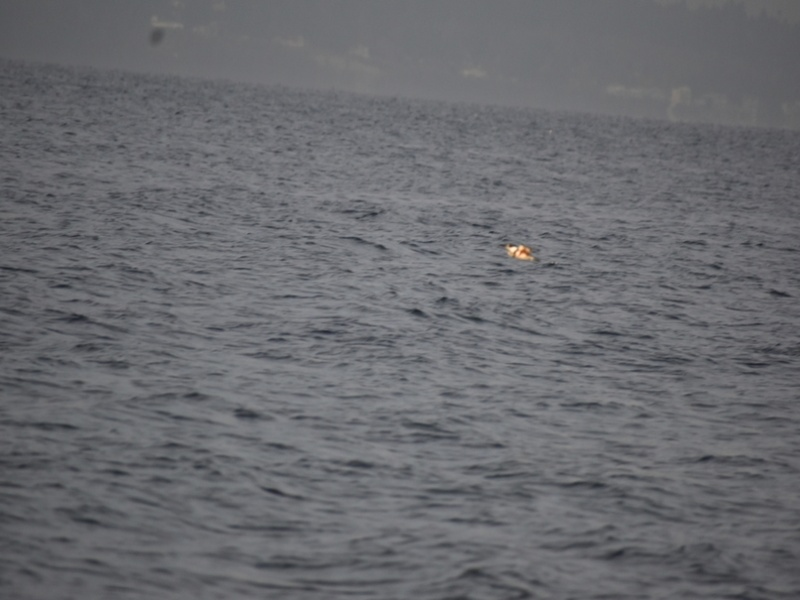kingfisher: (501, 242, 539, 263)
